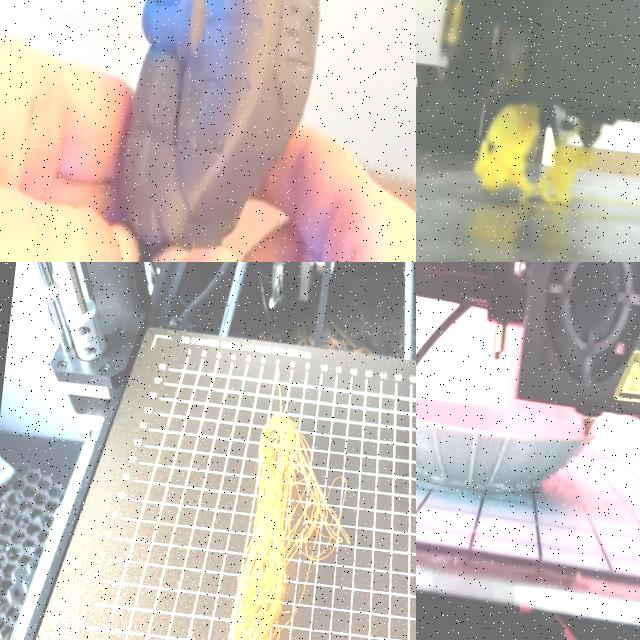spaghetti: (213, 359, 367, 640), (465, 104, 603, 222)
